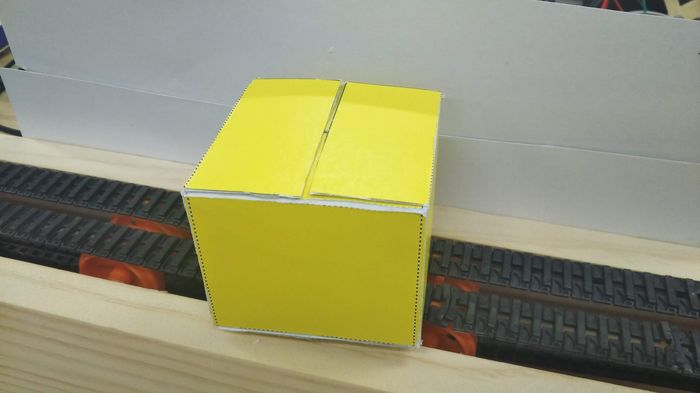box4: (177, 70, 447, 353)
